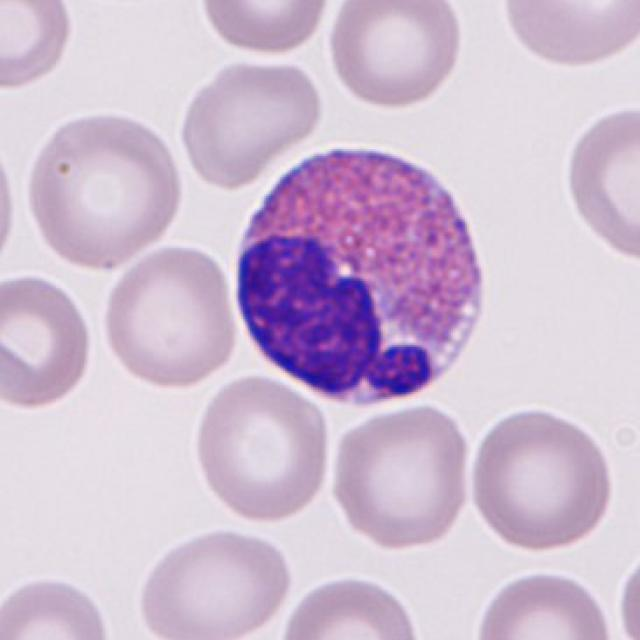Eosinophil: (222, 130, 500, 420)
RBC: (21, 104, 189, 272), (463, 402, 618, 555), (325, 397, 476, 553), (189, 370, 336, 526), (98, 241, 241, 390), (175, 52, 327, 191), (131, 522, 296, 640), (325, 0, 469, 111), (0, 269, 98, 414), (560, 97, 638, 267), (469, 565, 617, 640), (274, 569, 425, 640), (495, 0, 638, 73), (196, 0, 336, 59), (0, 570, 115, 640), (0, 0, 77, 94), (0, 132, 21, 277), (615, 541, 640, 640)
